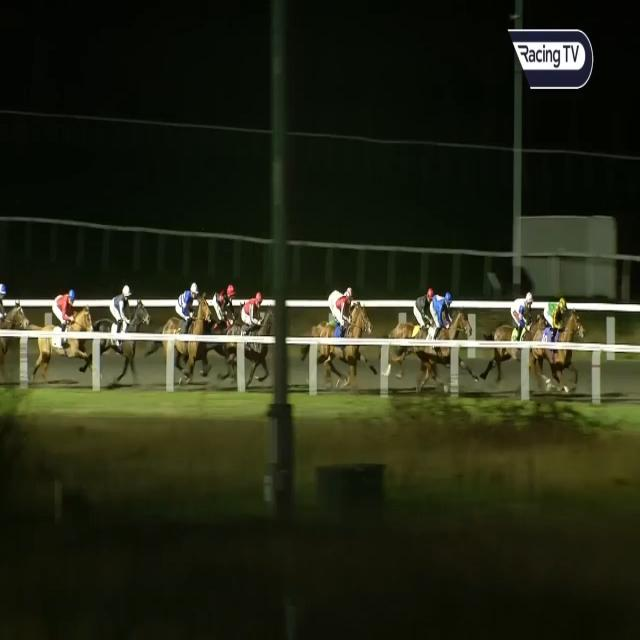horses-racing: (309, 294, 373, 403), (98, 276, 156, 376), (418, 290, 471, 389), (488, 286, 548, 372), (162, 280, 215, 377), (387, 286, 447, 368), (538, 294, 585, 394), (44, 284, 92, 380), (232, 286, 274, 386), (209, 276, 248, 373), (0, 276, 30, 378)
